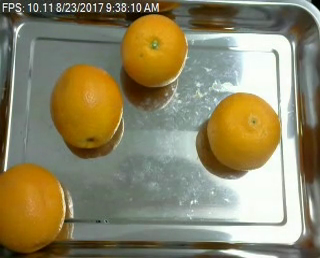Orange: (49, 64, 123, 151), (1, 163, 68, 254), (206, 90, 281, 171), (121, 13, 189, 86)
